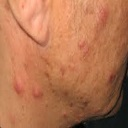Carbuncle: (55, 69, 118, 118)
